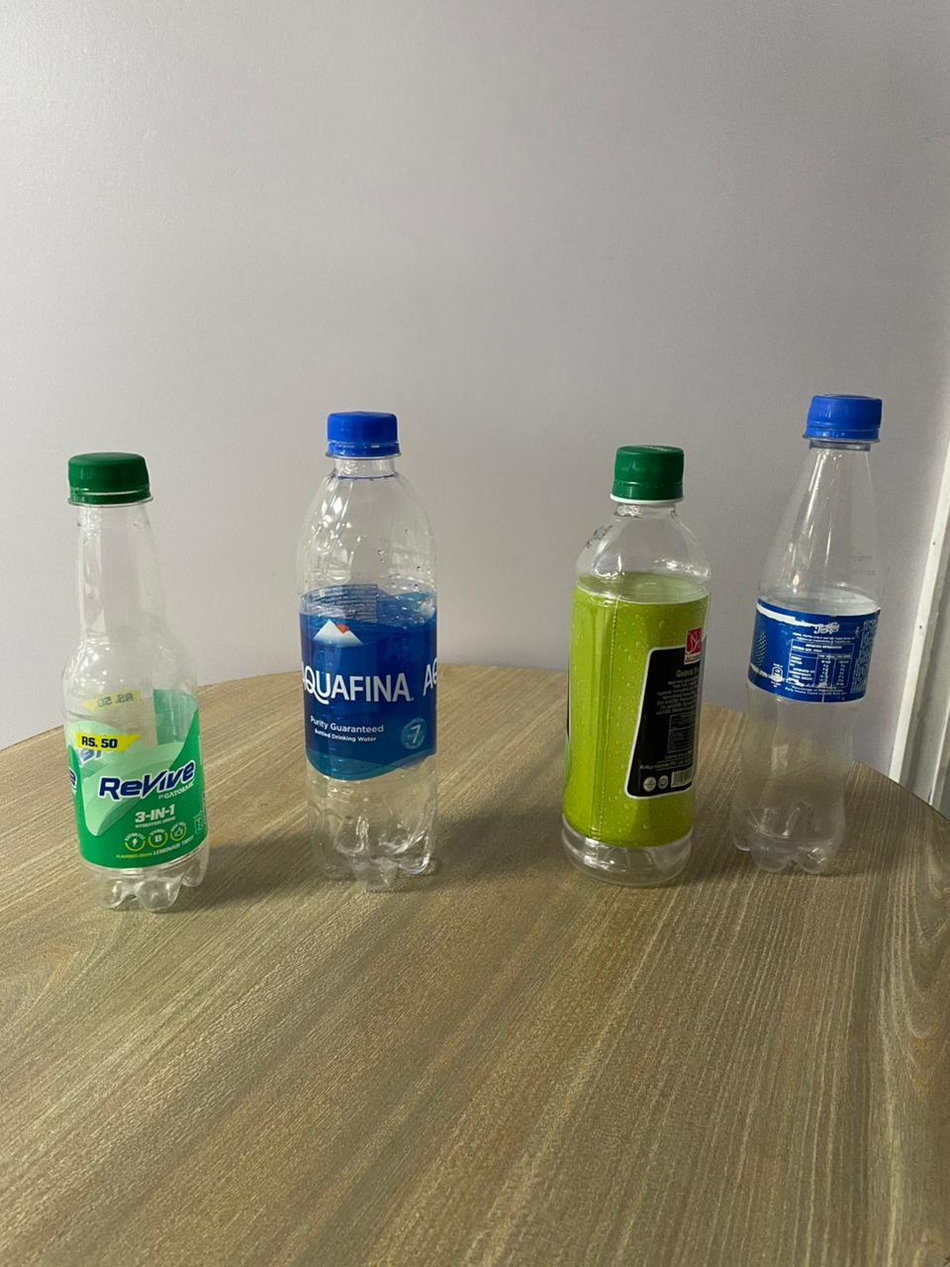Pepsi Bottle: (720, 382, 906, 897)
